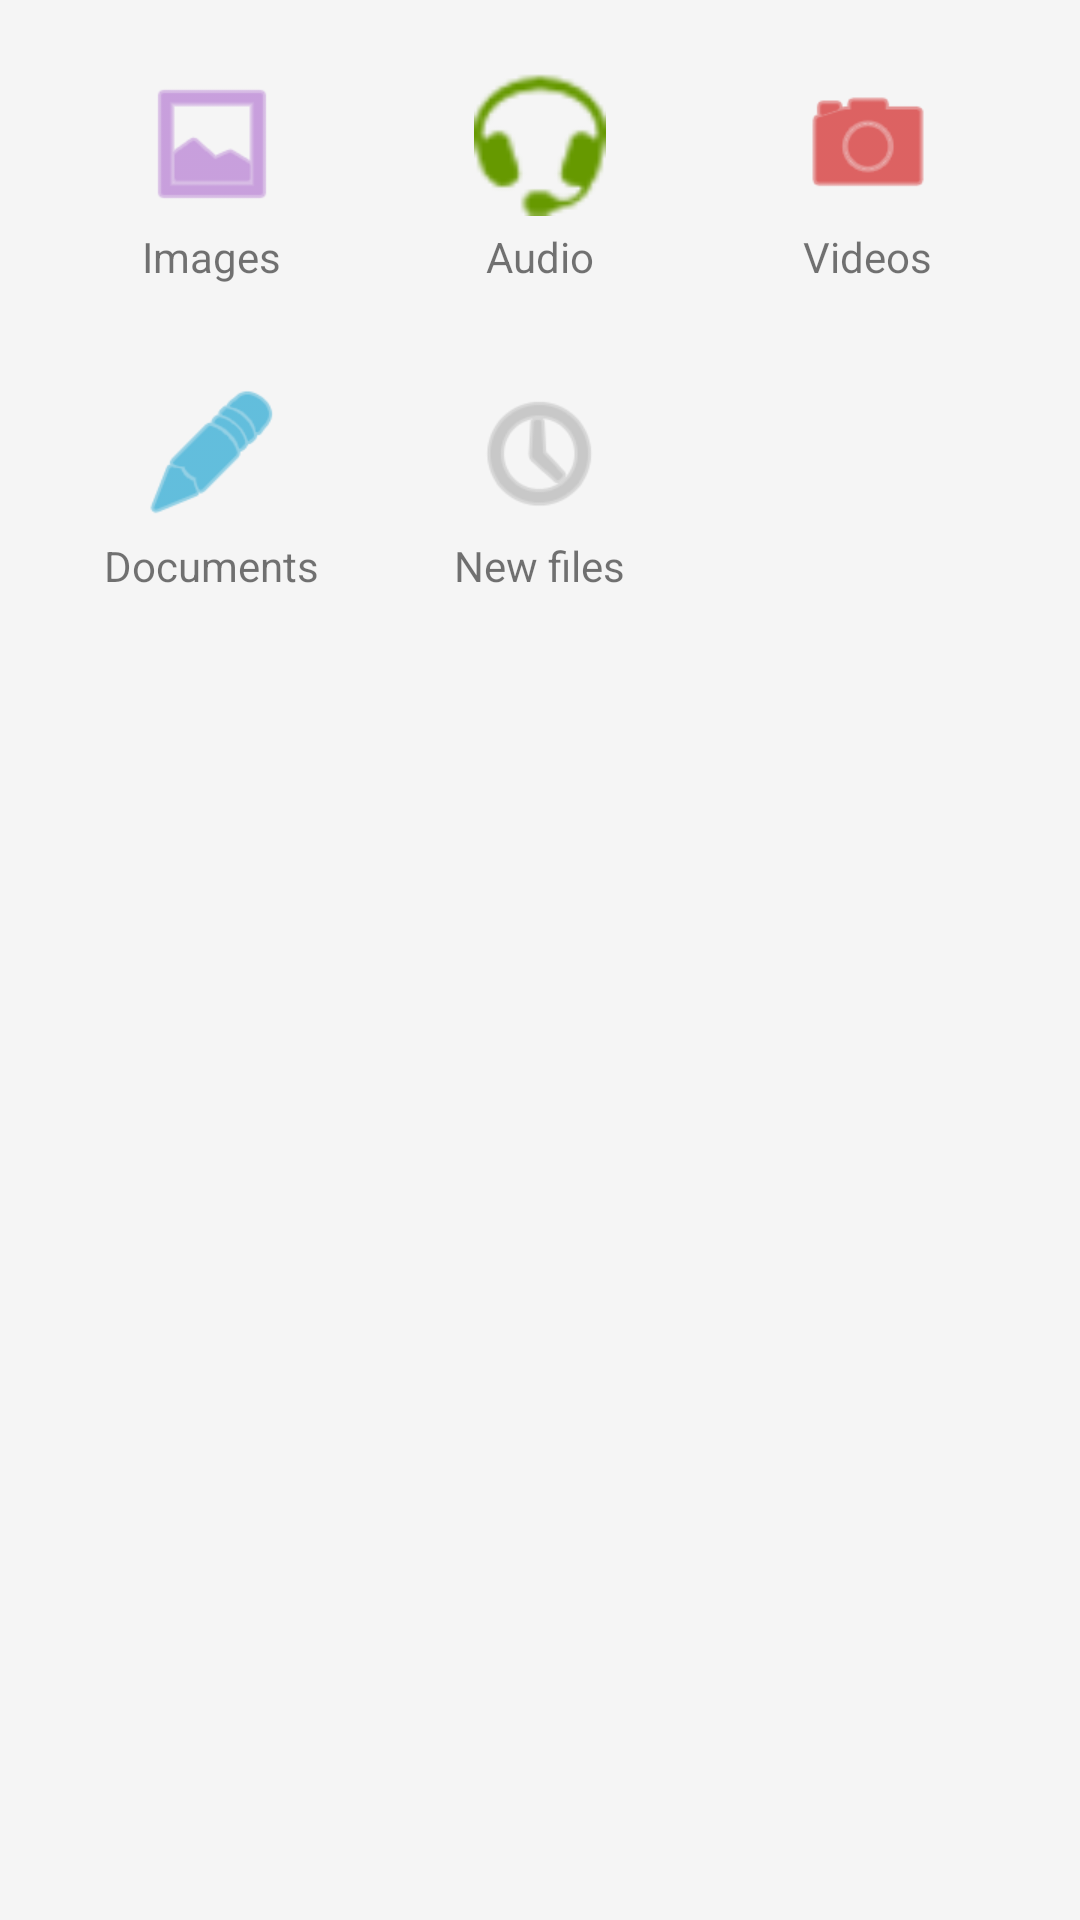

Screen size 1080px x 1920px. Icon name, then its box in pixels as (x1, y1, x2, y2):
camera: (812, 97, 924, 186)
edit: (150, 391, 272, 513)
gallery: (158, 90, 266, 198)
headset: (474, 74, 606, 216)
recent history: (488, 402, 591, 505)
